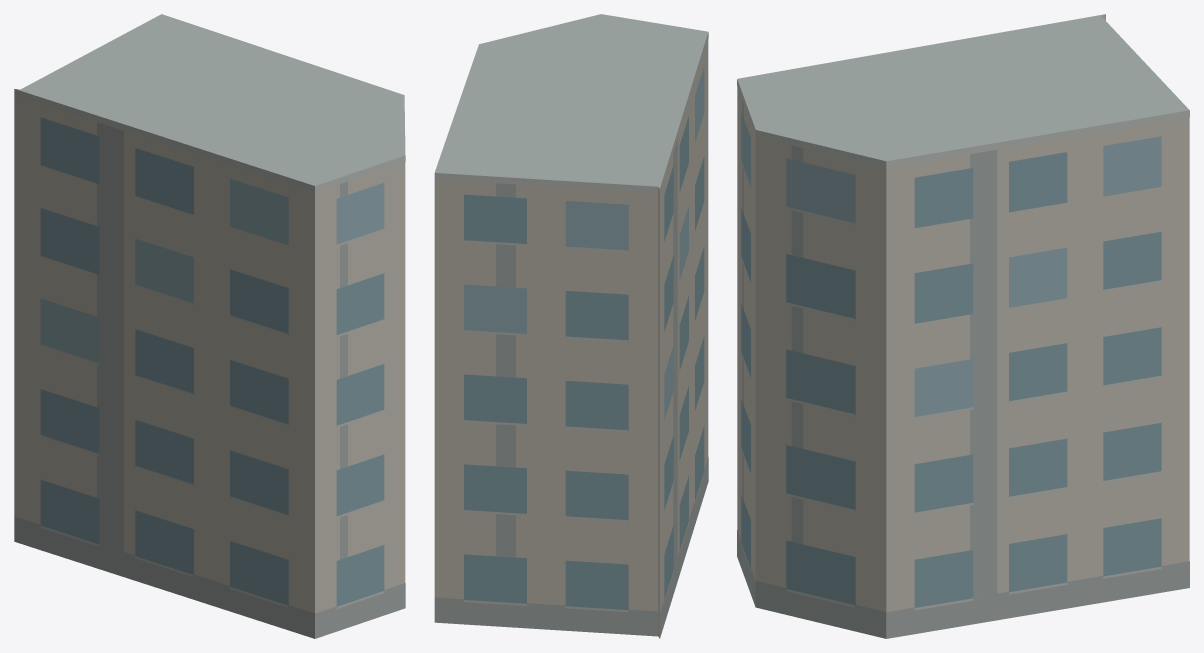
File: survey-upis-33022568.glb
The picture shows the model from 3 angles, left to right: view 1: azimuth 30°, elevation 25°; view 2: azimuth 150°, elevation 25°; view 3: azimuth 270°, elevation 25°; orthographic projection. The views are drawn at different scales.
Parts seen in each view (by area): view 1: survey-upis-33022568.tmp; view 2: survey-upis-33022568.tmp; view 3: survey-upis-33022568.tmp.
Part boxes in pixels (x1,y1,x2,y2): survey-upis-33022568.tmp: (14, 14, 405, 638); survey-upis-33022568.tmp: (434, 14, 708, 638); survey-upis-33022568.tmp: (737, 14, 1189, 638).
Size of the model in its own units: 10.99 by 16.6 by 14.27.
